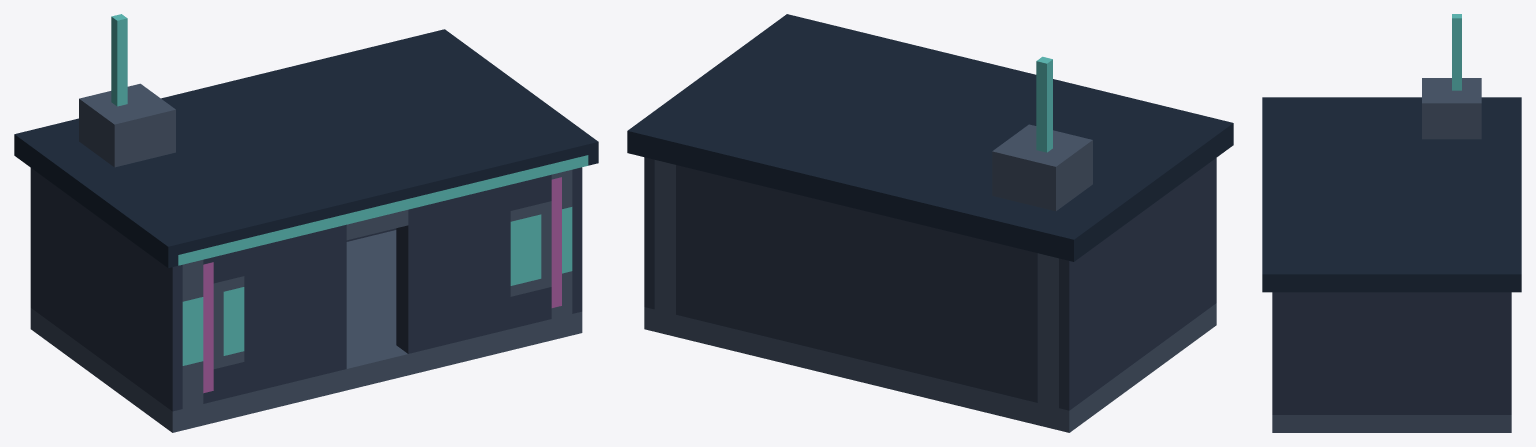
File: workshop.glb
The picture shows the model from 3 angles, left to right: view 1: azimuth 30°, elevation 25°; view 2: azimuth 150°, elevation 25°; view 3: azimuth 270°, elevation 25°; orthographic projection. The views are drawn at different scales.
Parts seen in each view (by area): view 1: Shell; view 2: Shell; view 3: Shell.
Boxes of the visible parts, x1,y1,x2,y2 form: Shell: (14, 14, 598, 432); Shell: (627, 14, 1233, 432); Shell: (1262, 14, 1521, 432).
Bounding box in the file's own units: 5.25 × 3.75 × 3.25.
